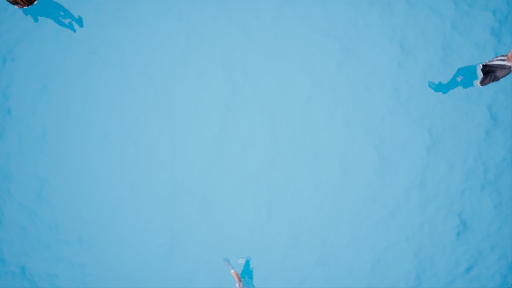person: (428, 44, 512, 93), (4, 1, 88, 31), (214, 249, 261, 288)
